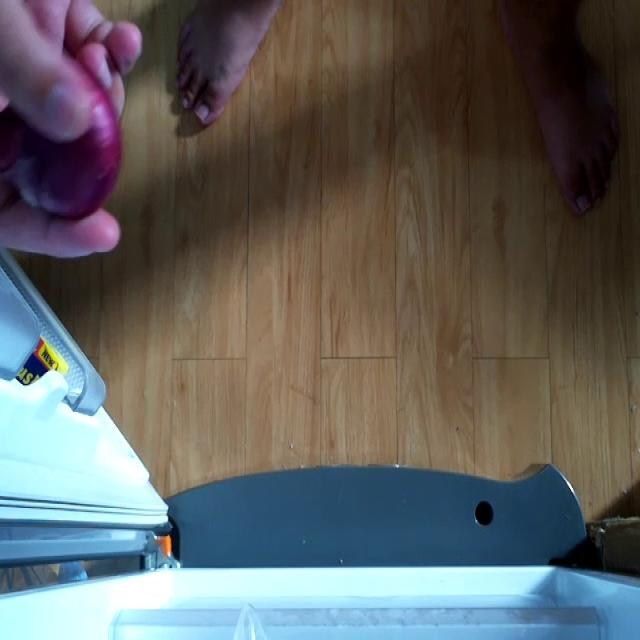onion: (0, 66, 125, 215)
